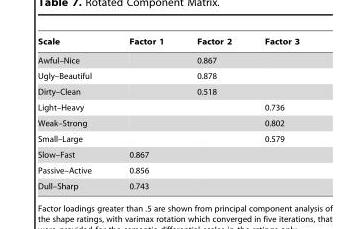table: (37, 36, 299, 190)
table column: (37, 36, 109, 190), (109, 36, 179, 190), (179, 36, 247, 190), (247, 36, 299, 190)
table column header: (37, 36, 299, 50)
table row: (37, 50, 299, 67), (37, 67, 299, 83), (37, 83, 299, 99), (37, 99, 299, 115), (37, 130, 299, 146), (37, 146, 299, 162), (37, 162, 299, 178), (37, 115, 299, 130), (37, 36, 299, 50), (37, 178, 299, 190)
